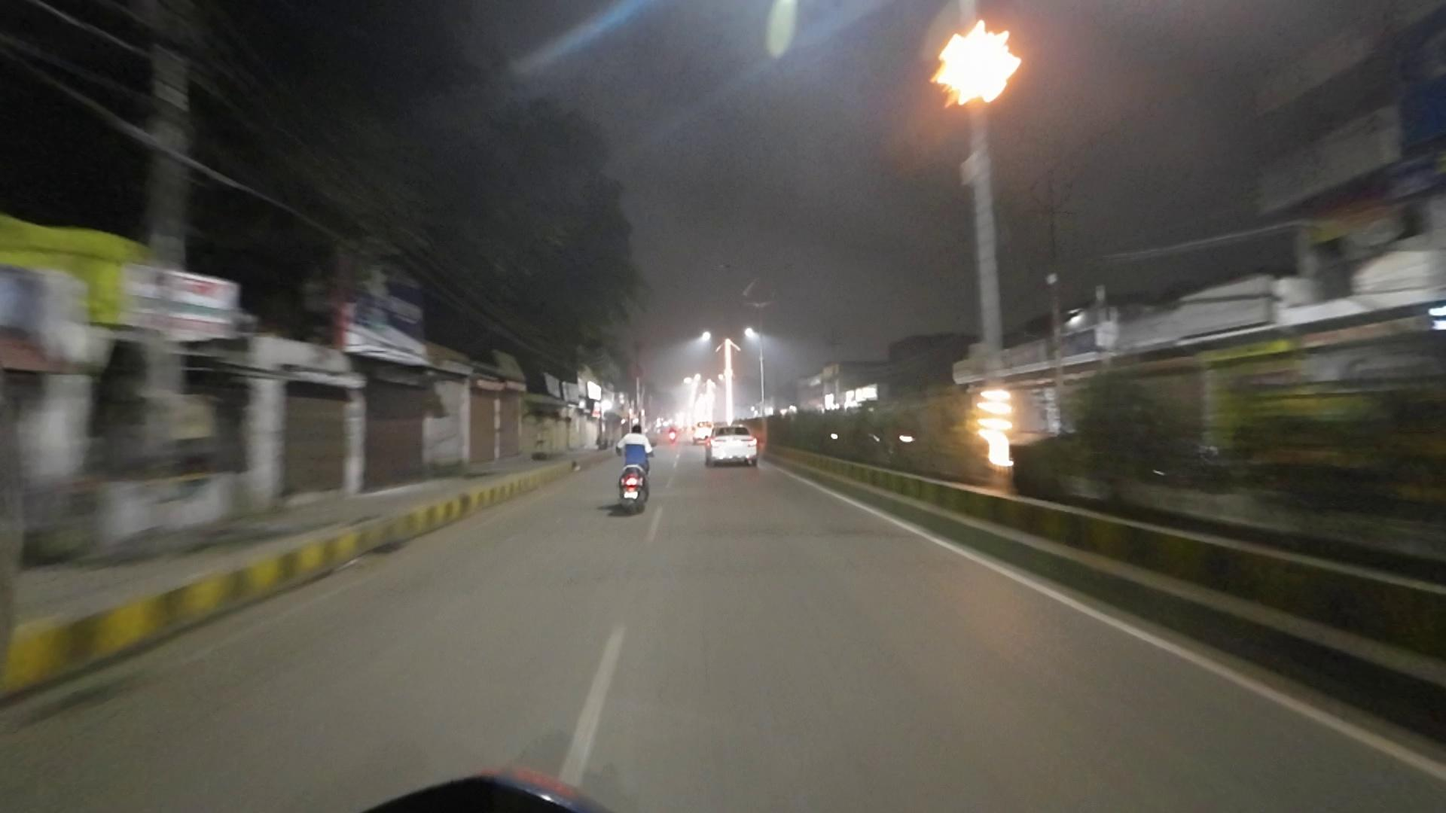streetlight: (715, 260, 756, 275), (764, 260, 796, 275)
